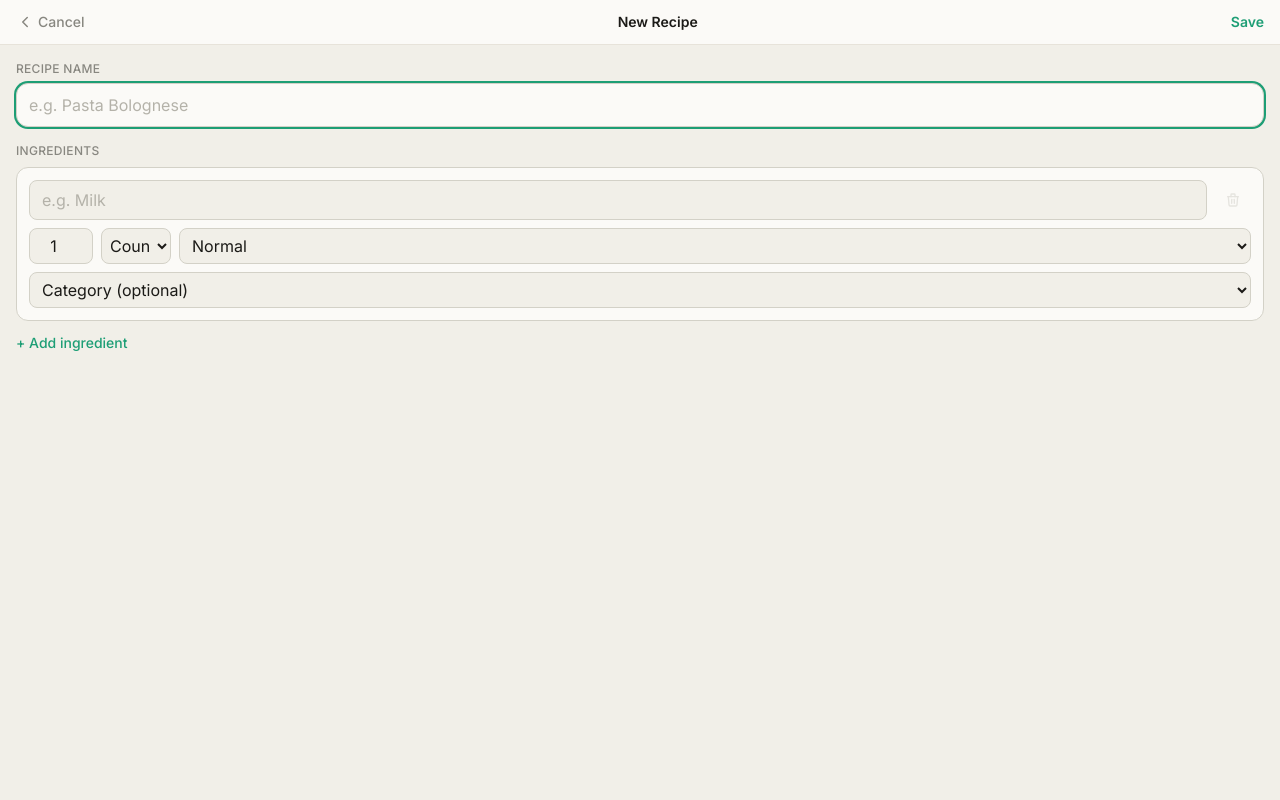
RecipeCreateOverlay › picking a non-count unit resets the quantity to that unit's step
The width and height of the screenshot is (1280, 800).
Select "g" in the dropdown named "Unit": (136, 246) x1=101 y1=228 x2=171 y2=264
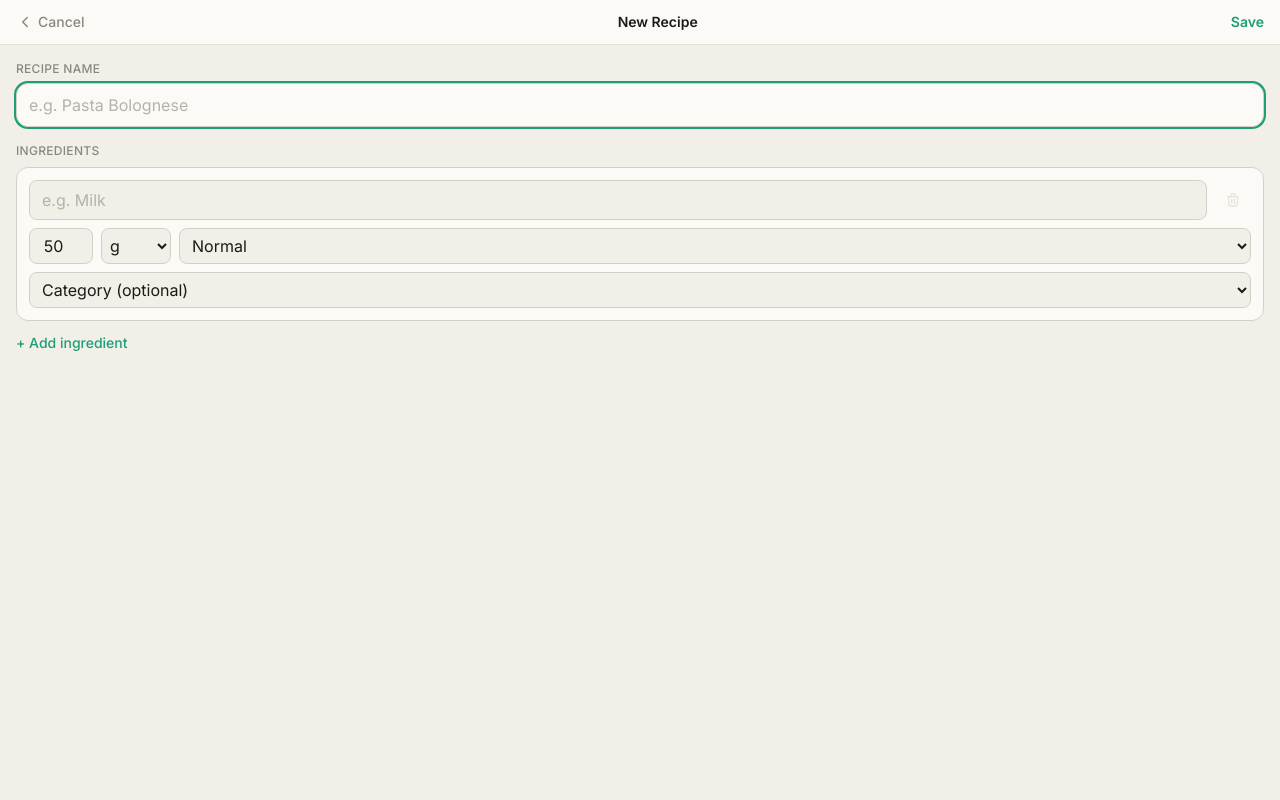
Result: the number field showing "50" is shown at x1=29 y1=228 x2=93 y2=264
